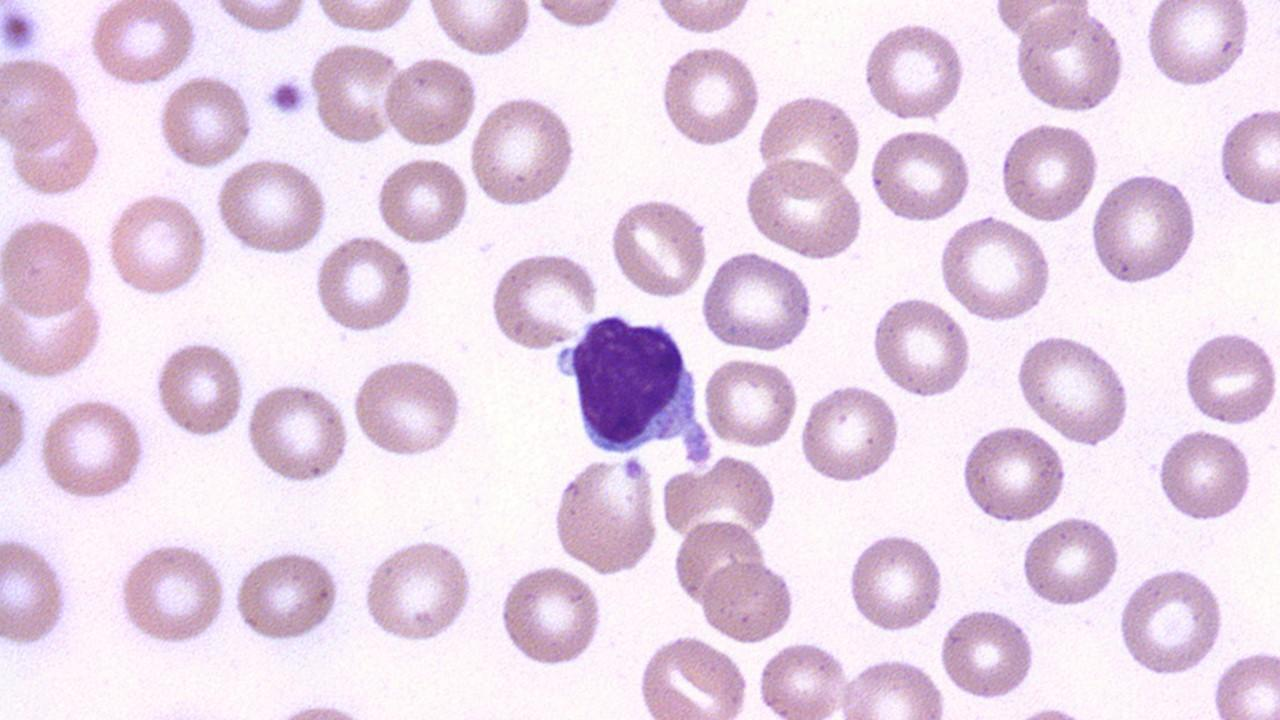Platelets: (264, 73, 310, 119)
RBC: (1014, 329, 1134, 446), (550, 452, 662, 576), (1087, 169, 1201, 288), (466, 92, 580, 209), (1115, 564, 1229, 678), (361, 535, 477, 647), (938, 214, 1055, 324), (1011, 8, 1129, 116), (114, 538, 229, 648), (742, 159, 866, 260), (349, 356, 468, 460), (495, 560, 606, 670), (698, 250, 816, 353), (36, 396, 149, 502), (213, 156, 331, 257), (242, 378, 351, 487), (655, 41, 764, 149), (488, 248, 601, 352), (753, 90, 862, 197), (860, 17, 970, 123), (105, 190, 211, 300), (958, 422, 1070, 524), (870, 294, 977, 400), (844, 527, 948, 635), (796, 382, 904, 486), (606, 194, 711, 300), (2, 278, 106, 384), (996, 120, 1102, 223), (232, 547, 344, 644), (864, 128, 976, 223), (307, 40, 406, 146), (312, 234, 416, 334), (634, 632, 753, 718), (0, 214, 98, 318), (1141, 2, 1255, 91), (1154, 426, 1256, 525), (84, 2, 201, 88), (1180, 326, 1280, 426), (152, 336, 246, 442), (1018, 515, 1123, 608), (156, 73, 256, 170), (938, 606, 1040, 701), (701, 354, 800, 450), (676, 451, 780, 541), (382, 54, 478, 151), (4, 107, 104, 200), (670, 516, 766, 612), (372, 154, 470, 247), (698, 556, 798, 646), (0, 530, 73, 650), (0, 54, 82, 152), (756, 638, 850, 718), (1214, 101, 1280, 210), (836, 654, 950, 717), (426, 2, 534, 58), (1210, 643, 1280, 719), (988, 0, 1095, 42), (311, 0, 422, 35), (648, 1, 760, 34), (209, 0, 312, 35), (0, 373, 30, 491), (529, 0, 629, 31)
WBC: (566, 309, 695, 456)
